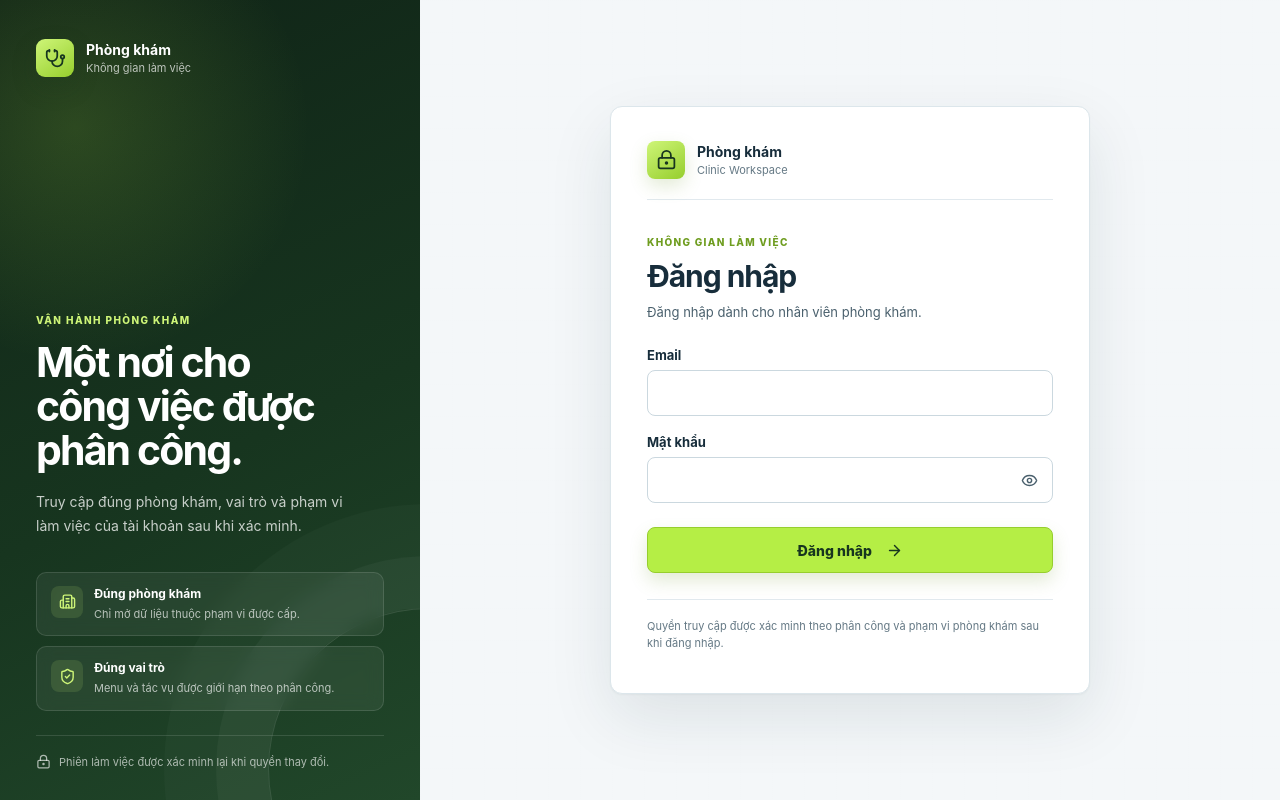
rejects a pure patient account at Workspace login
The image size is (1280, 800).
Type "patient@test.invalid" into the field labelled "Email" at (850,393), box left=647, top=370, right=1053, bottom=416
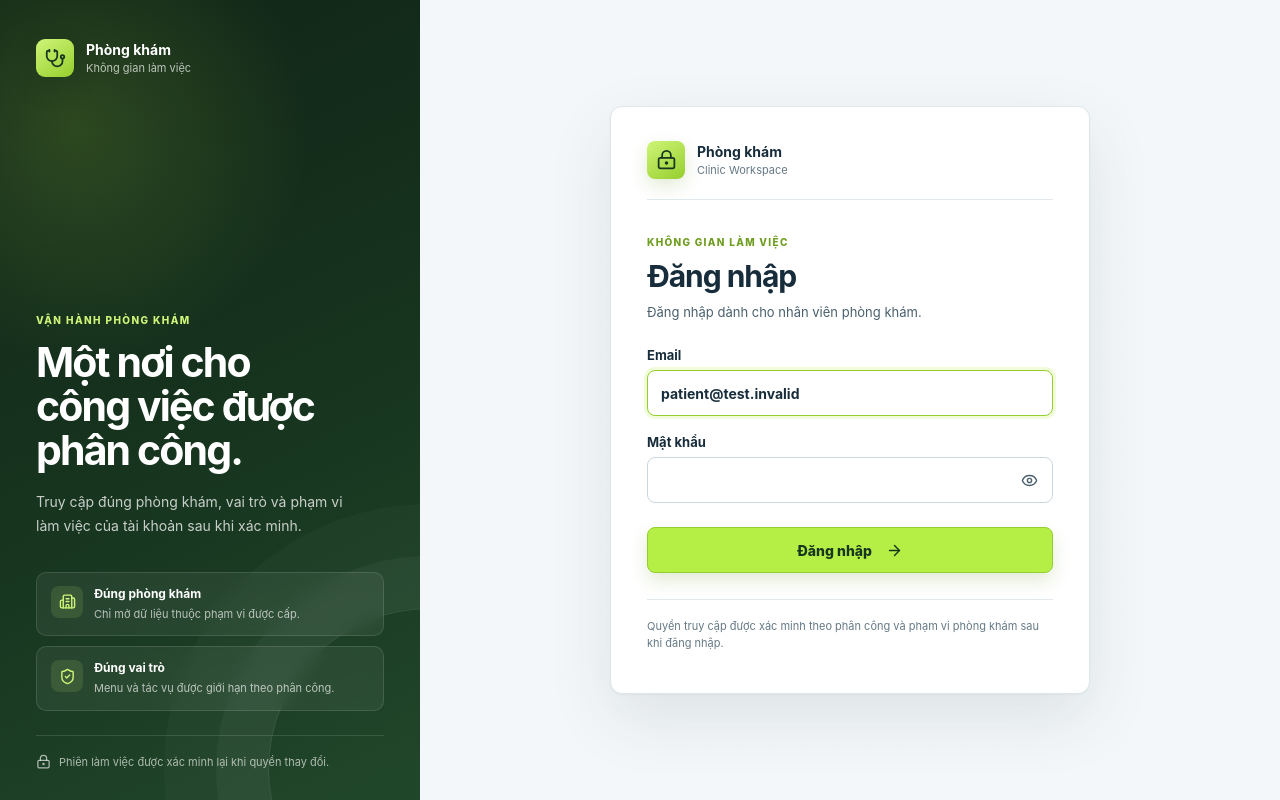
Type "test-password" into the password field labelled "Mật khẩu" at (850,480), box left=647, top=457, right=1053, bottom=503
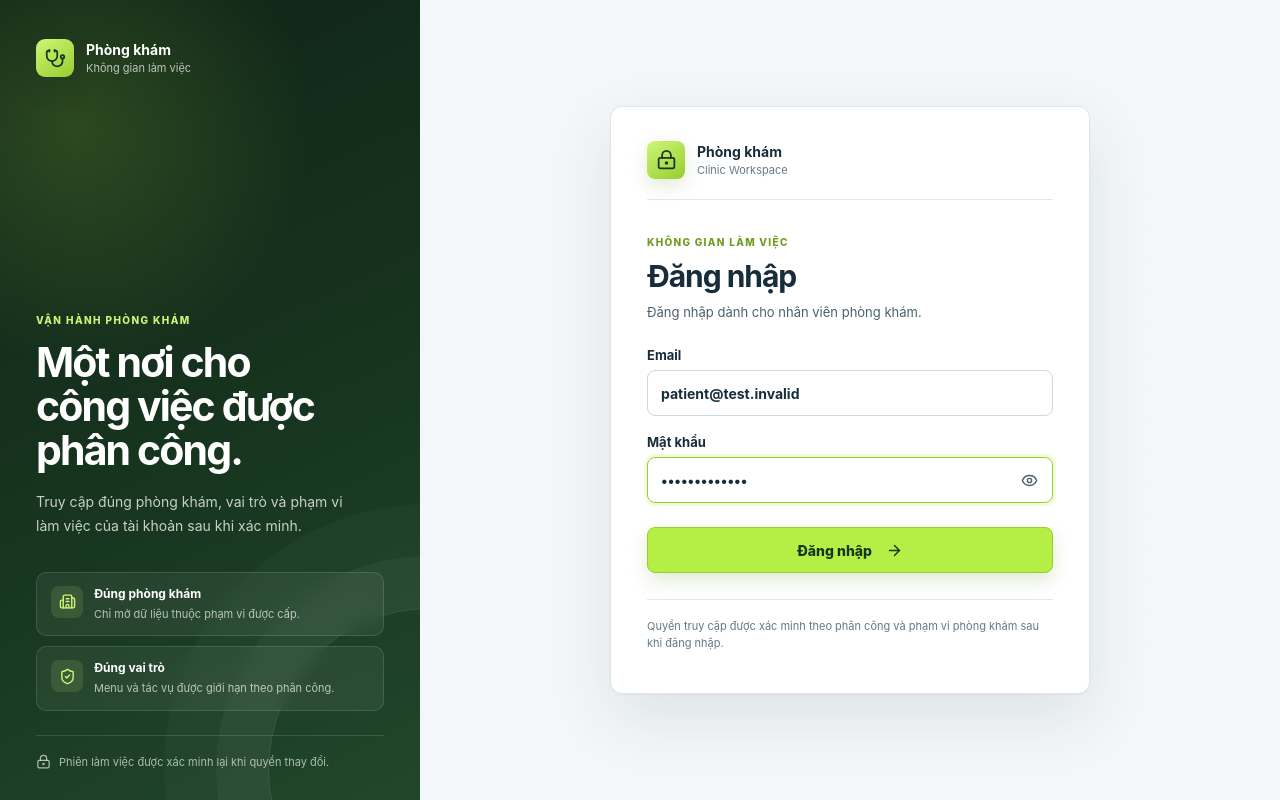
Click the button "Đăng nhập" at (850,550), box left=647, top=527, right=1053, bottom=573
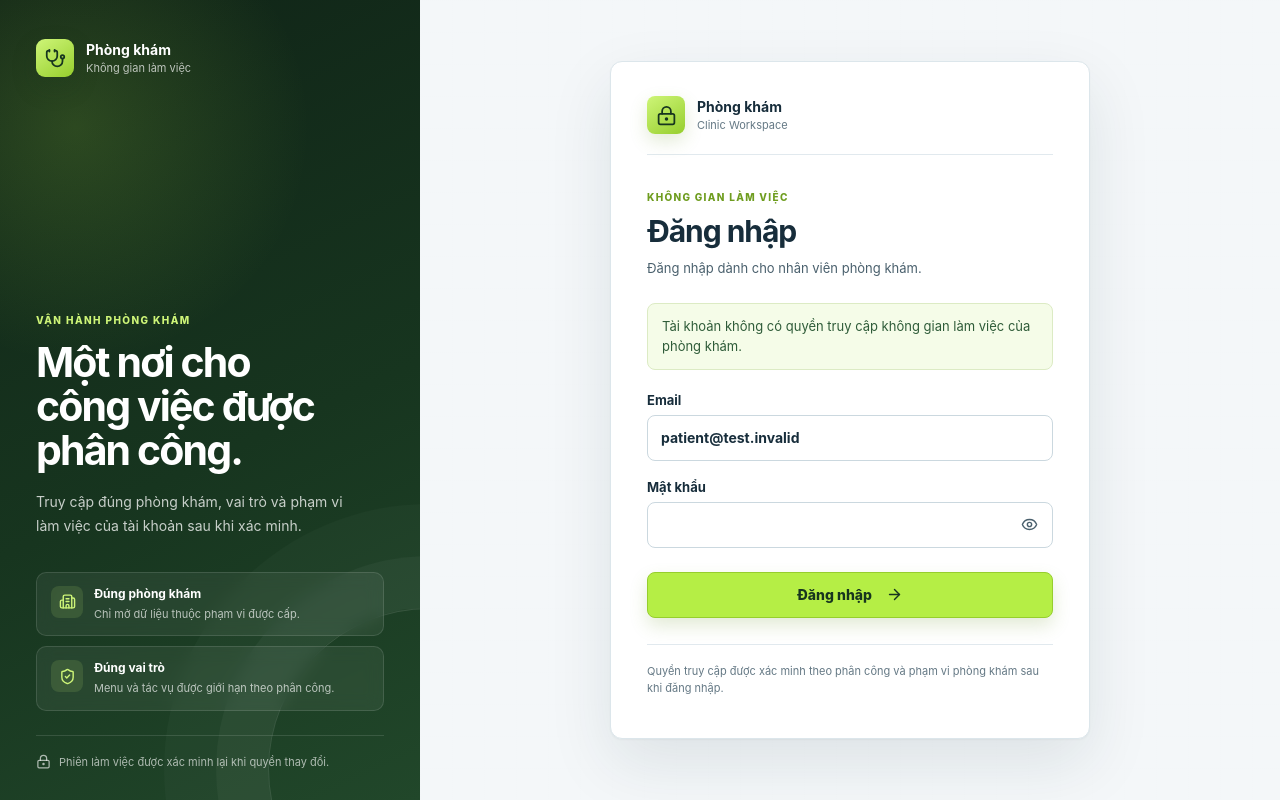
Check: the message shows "không có quyền truy cập không gian làm việc", box left=662, top=318, right=1030, bottom=354
